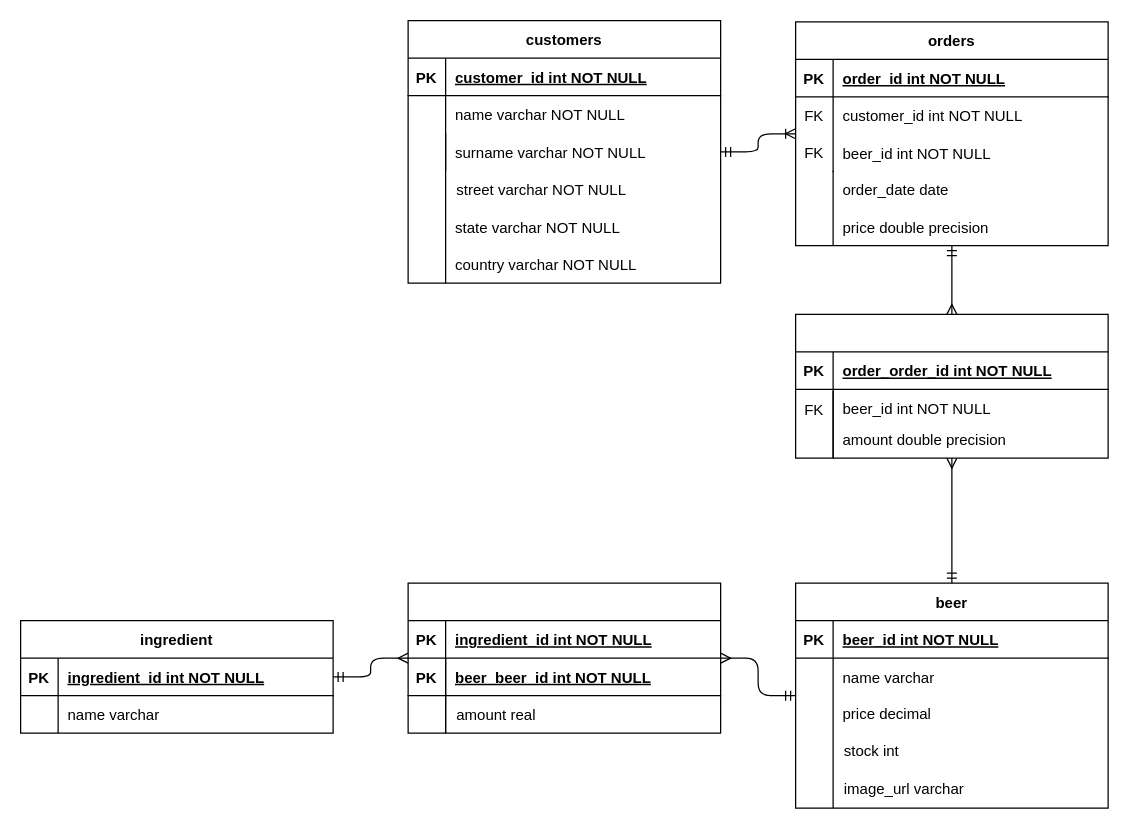
This 1130x829 diagram has some shape labels left out. The box of each missing label's shape, as (x1, y1, x2, y2) in pixels:
beer_ingredients: (407, 582, 721, 733)
order_beer_order: (794, 313, 1108, 458)
